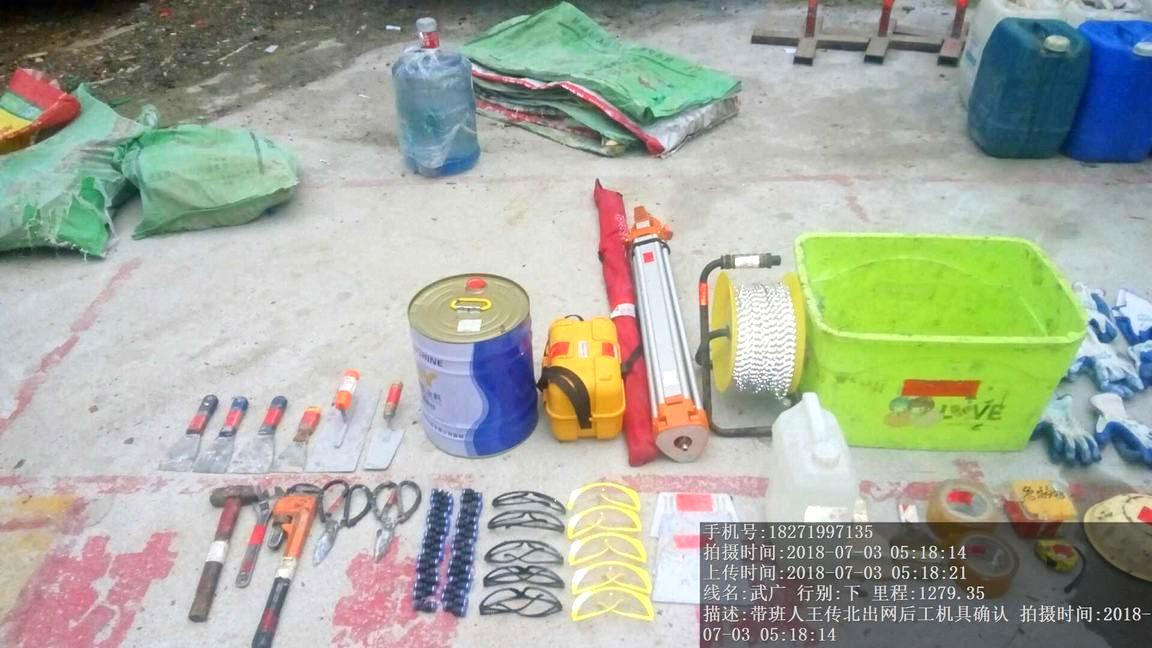BZD: (473, 10, 753, 160)
DX: (689, 247, 802, 435)
SLT: (973, 13, 1081, 162)
T: (795, 230, 1078, 452)
